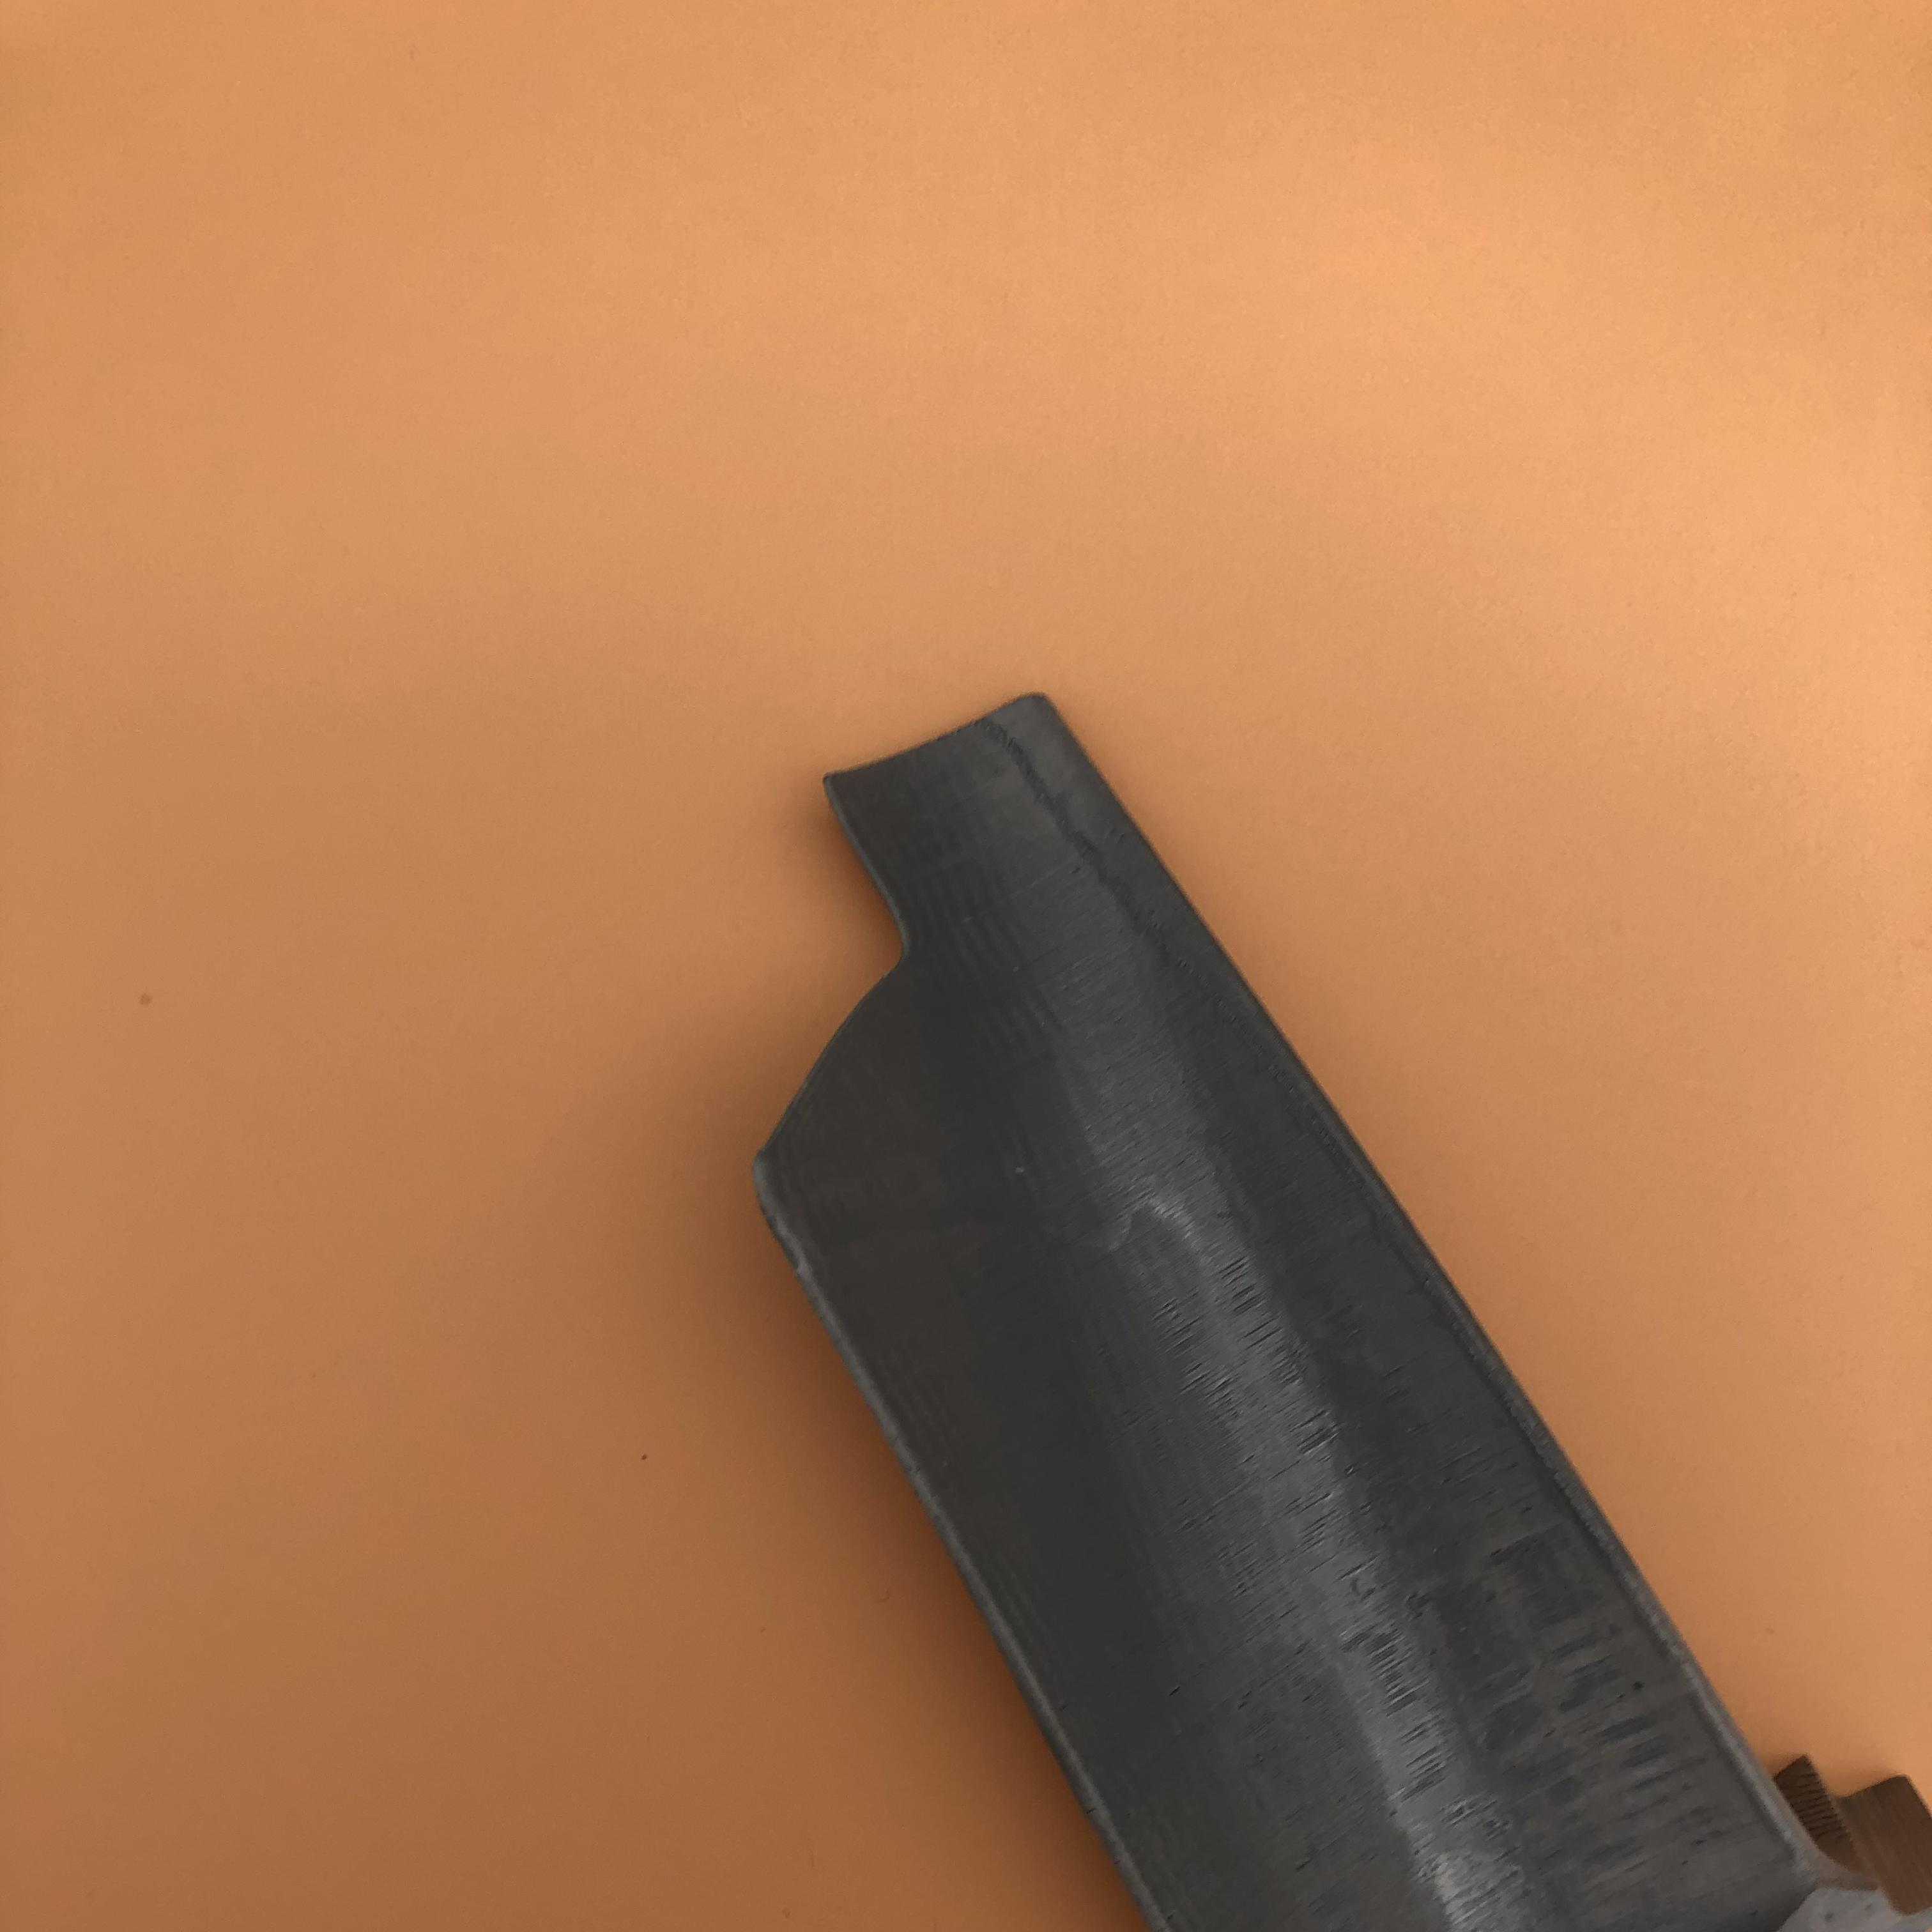fracture: (724, 794, 955, 1161)
